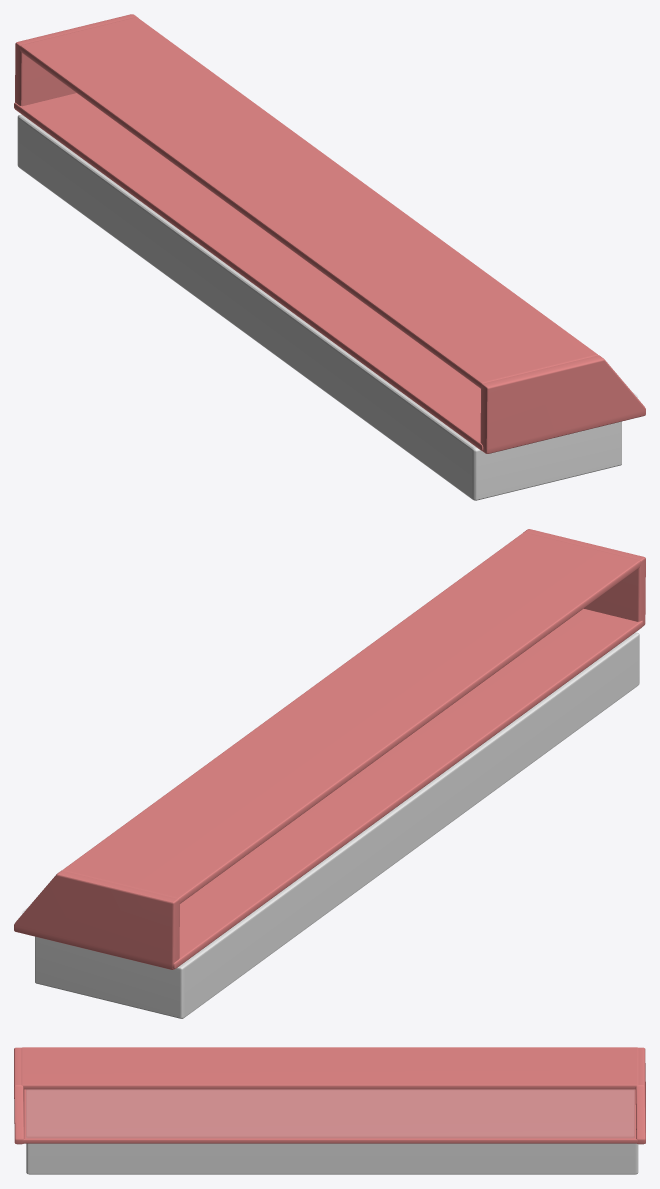
The model's file is delicounterv_01.fbx.
3 renders of one model, top to bottom at view 1: azimuth 30°, elevation 25°; view 2: azimuth 150°, elevation 25°; view 3: azimuth 270°, elevation 25°, orthographic. The views are drawn at different scales.
Parts seen in each view (by area): view 1: pCube96; view 2: pCube96; view 3: pCube96.
Boxes of the visible parts, left/top/right/bottom form: pCube96: left=14, top=14, right=645, bottom=500; pCube96: left=14, top=529, right=645, bottom=1018; pCube96: left=14, top=1047, right=645, bottom=1174.
Size of the model in its own units: 568 by 400 by 2833.
